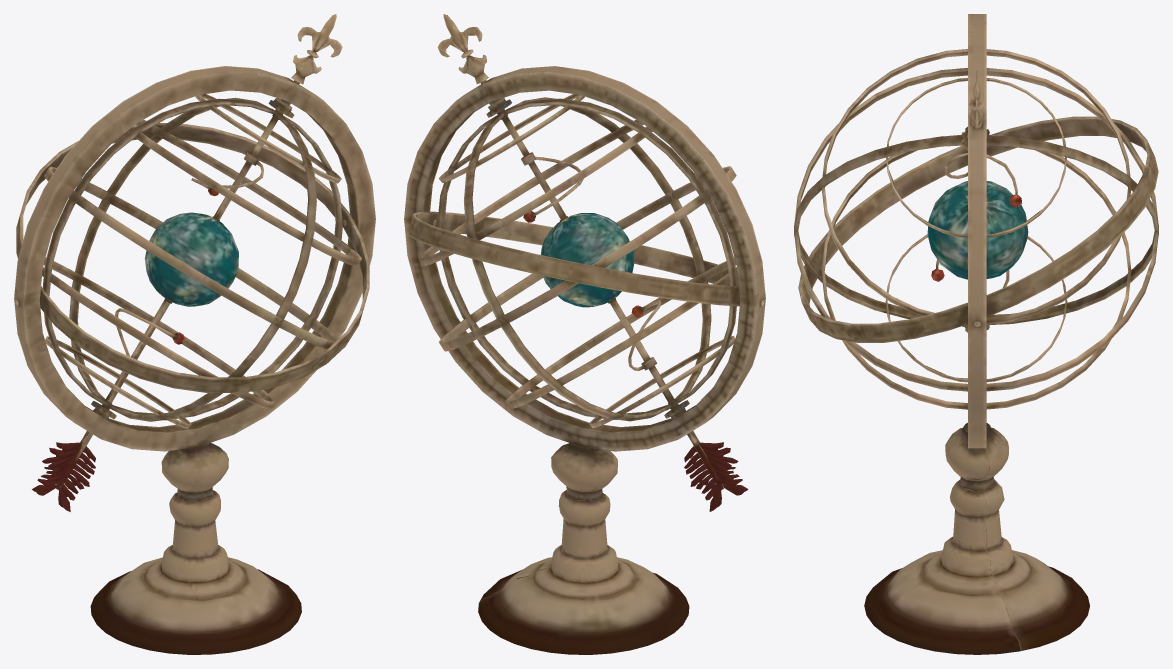
The model's file is obj_armillary_sphere.glb.
3 views of the same model, side by side, from view 1: azimuth 30°, elevation 25°; view 2: azimuth 150°, elevation 25°; view 3: azimuth 270°, elevation 25° (orthographic). The views are drawn at different scales.
Visible parts, largest first — view 1: defaultMaterial; view 2: defaultMaterial; view 3: defaultMaterial.
Part boxes in pixels (box(x1,y1,x2,y2)): defaultMaterial: box(14, 14, 375, 654); defaultMaterial: box(404, 14, 765, 654); defaultMaterial: box(794, 14, 1158, 654).
Size of the model in its own units: 0.2978 by 0.4502 by 0.248.
1 material, 1 textured.
